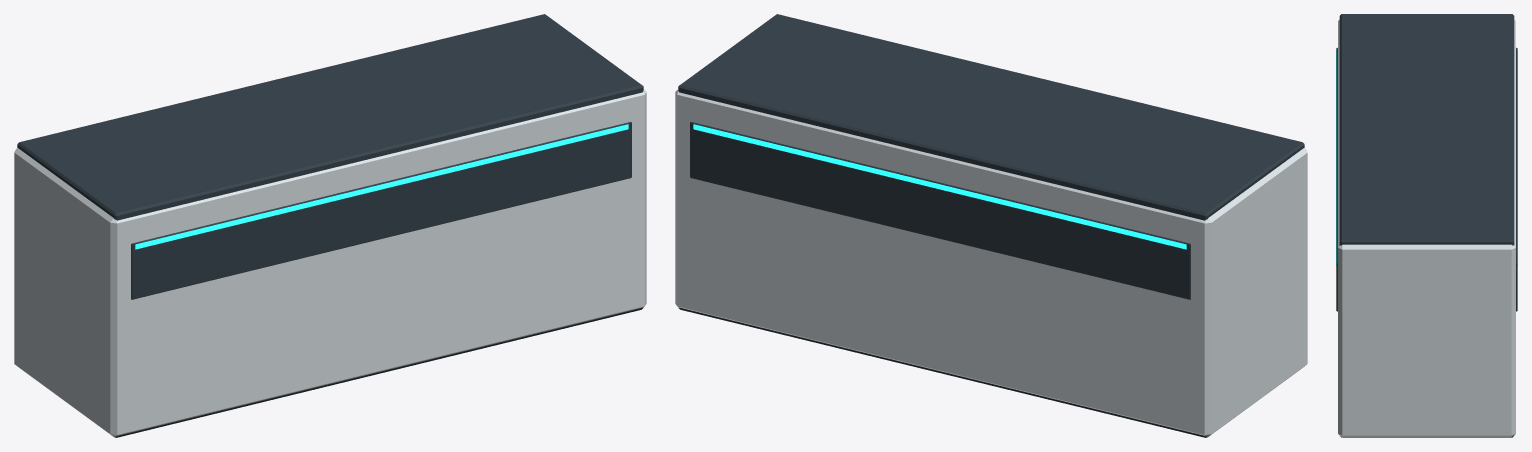
Rendered from SM_TS_LowCover.fbx.
3 views of the same model, side by side, from view 1: azimuth 30°, elevation 25°; view 2: azimuth 150°, elevation 25°; view 3: azimuth 270°, elevation 25° (orthographic). The views are drawn at different scales.
Parts seen in each view (by area): view 1: SM_TS_LowCover; view 2: SM_TS_LowCover; view 3: SM_TS_LowCover.
Boxes of the visible parts, left/top/right/bottom form: SM_TS_LowCover: left=14, top=14, right=646, bottom=437; SM_TS_LowCover: left=675, top=14, right=1307, bottom=437; SM_TS_LowCover: left=1336, top=14, right=1517, bottom=437.
Size of the model in its own units: 300 by 100 by 120.
